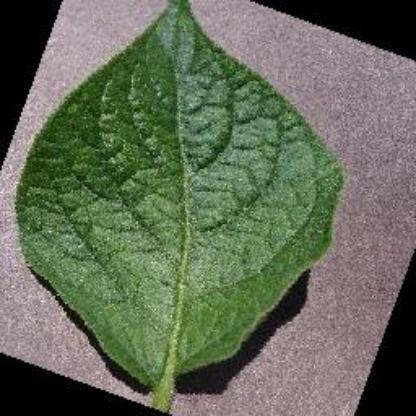Healthy-plant: (1, 6, 350, 394)
